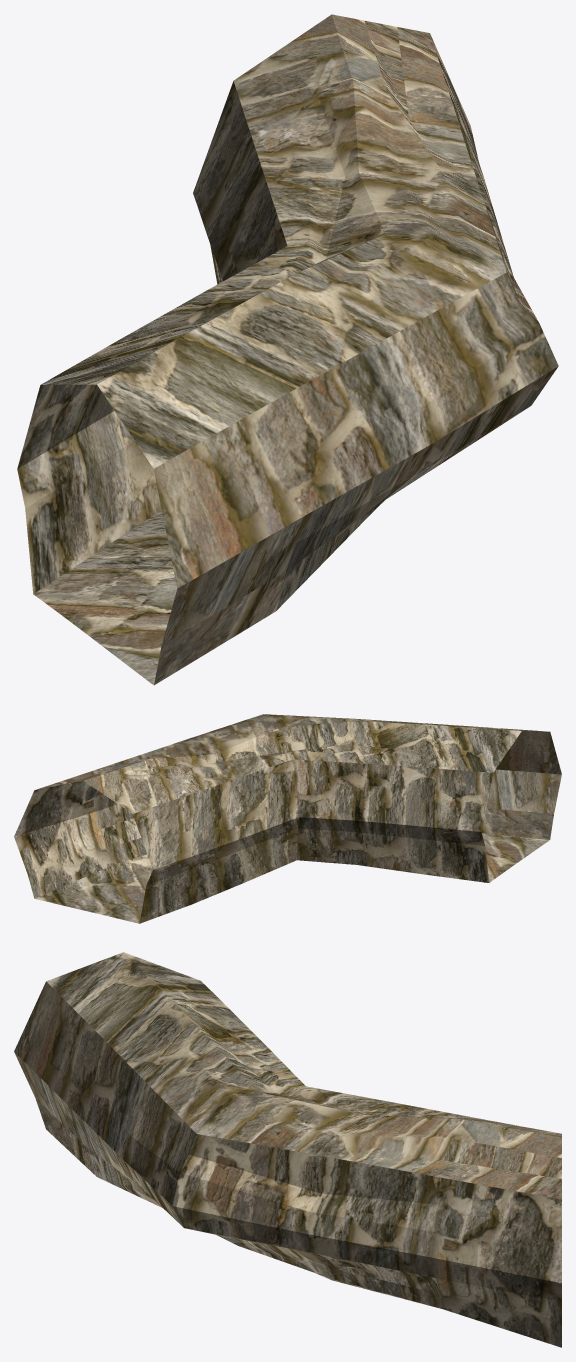
File: Tunnel_turn.fbx
The picture shows the model from 3 angles, top to bottom: view 1: azimuth 30°, elevation 25°; view 2: azimuth 150°, elevation 25°; view 3: azimuth 270°, elevation 25°; orthographic projection. The views are drawn at different scales.
Visible parts, largest first — view 1: Torus; view 2: Torus; view 3: Torus.
Part boxes in pixels (x1=…): Torus: x1=17, y1=14, x2=558, y2=685; Torus: x1=14, y1=714, x2=561, y2=923; Torus: x1=14, y1=952, x2=561, y2=1347.
Size of the model in its own units: 2203 by 793 by 2203.
